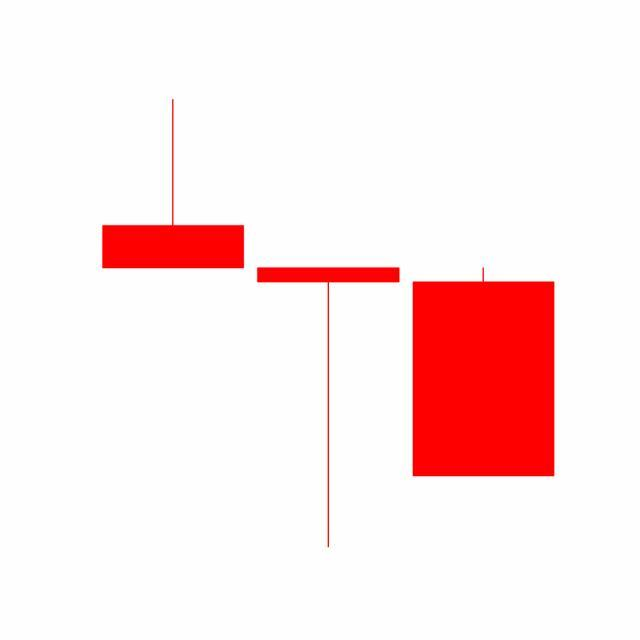Marubozu: (406, 266, 562, 479)
